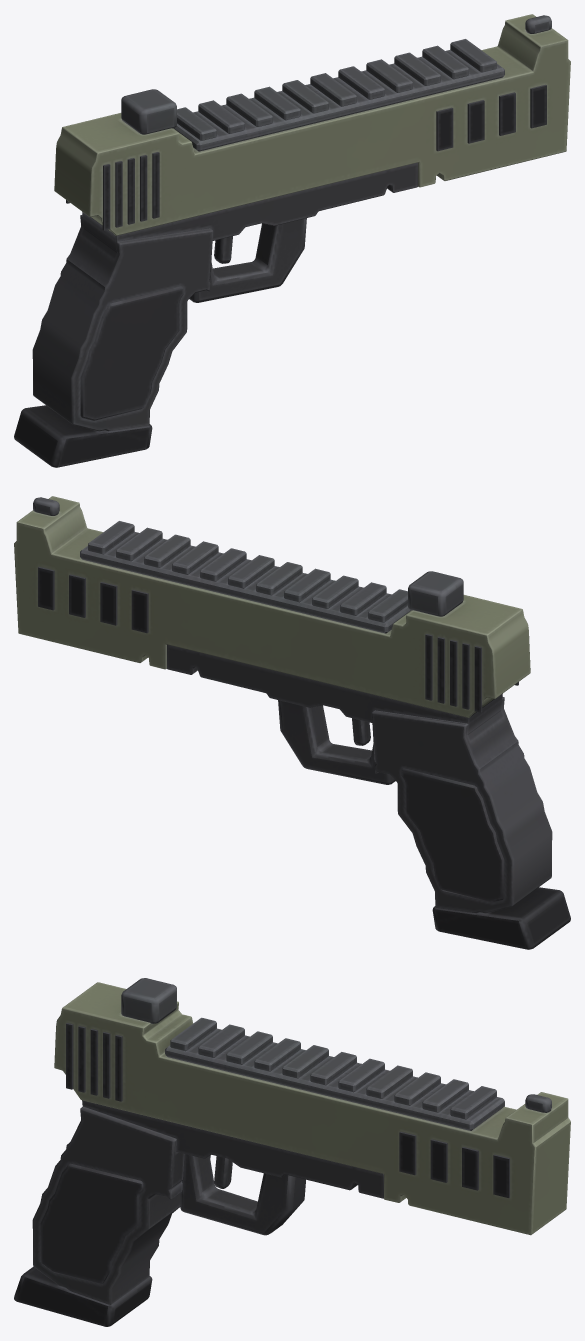
3 renders of one model, top to bottom at view 1: azimuth 30°, elevation 25°; view 2: azimuth 150°, elevation 25°; view 3: azimuth 330°, elevation 25°, orthographic.
Visible parts, largest first — view 1: AT_MD34; view 2: AT_MD34; view 3: AT_MD34.
Part boxes in pixels (<box>): AT_MD34: <box>14,14,570,467</box>; AT_MD34: <box>14,496,570,949</box>; AT_MD34: <box>14,978,570,1326</box>.
Bounding box in the file's own units: 0.1843 × 0.1117 × 0.0257.
1 material, 1 textured.
